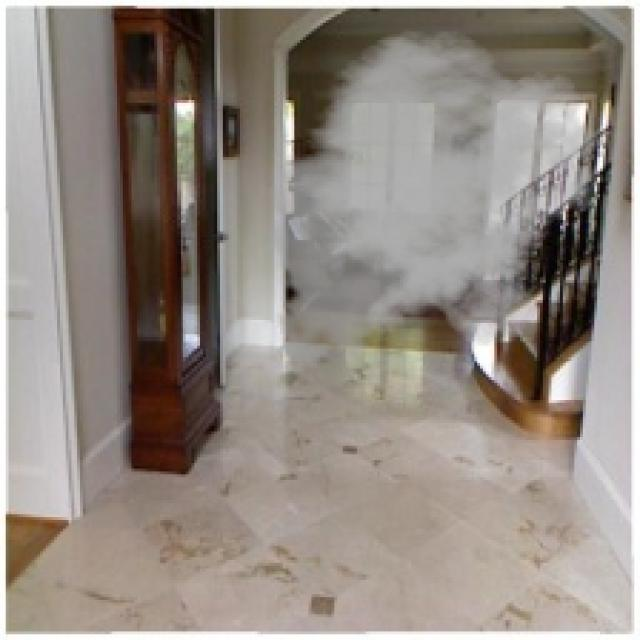smoke: (257, 28, 612, 383)
